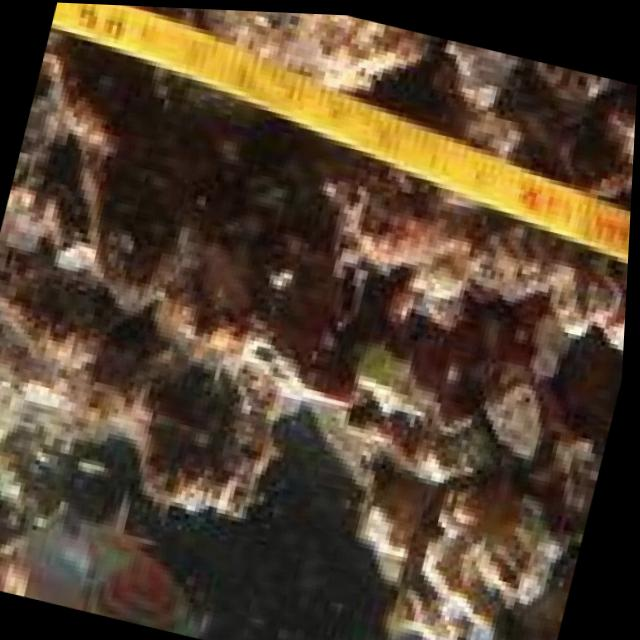Healthy Coral: (0, 65, 637, 500)
